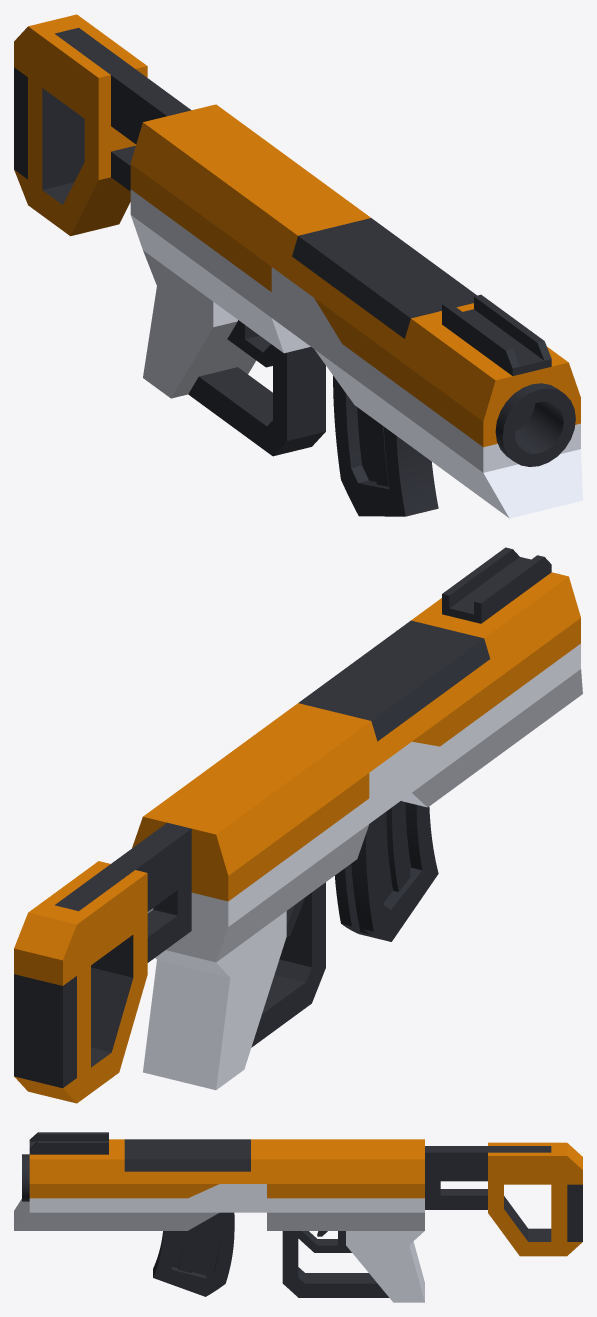
The model's file is rifle.fbx.
3 renders of one model, top to bottom at view 1: azimuth 30°, elevation 25°; view 2: azimuth 150°, elevation 25°; view 3: azimuth 270°, elevation 25°, orthographic. The views are drawn at different scales.
Visible parts, largest first — view 1: mediumBlaster_handleGuard, mediumBlaster_centerDetail, stock_tactical, mediumBlaster_barrelShort, clip_banana, detailRail_front; view 2: mediumBlaster_handleGuard, stock_tactical, mediumBlaster_centerDetail, mediumBlaster_barrelShort, clip_banana, detailRail_front; view 3: mediumBlaster_handleGuard, mediumBlaster_centerDetail, stock_tactical, mediumBlaster_barrelShort, clip_banana, detailRail_front.
Boxes of the visible parts, <box> form: mediumBlaster_handleGuard: <box>130,104,356,456</box>; mediumBlaster_centerDetail: <box>271,207,476,456</box>; stock_tactical: <box>14,14,191,236</box>; mediumBlaster_barrelShort: <box>412,324,582,518</box>; clip_banana: <box>333,375,438,516</box>; detailRail_front: <box>442,294,551,375</box>; mediumBlaster_handleGuard: <box>132,713,369,1090</box>; stock_tactical: <box>14,822,191,1103</box>; mediumBlaster_centerDetail: <box>284,610,510,823</box>; mediumBlaster_barrelShort: <box>425,572,582,755</box>; clip_banana: <box>335,801,438,941</box>; detailRail_front: <box>442,547,551,623</box>; mediumBlaster_handleGuard: <box>267,1139,424,1302</box>; mediumBlaster_centerDetail: <box>108,1139,266,1230</box>; stock_tactical: <box>425,1142,582,1256</box>; mediumBlaster_barrelShort: <box>14,1154,108,1230</box>; clip_banana: <box>153,1212,234,1296</box>; detailRail_front: <box>29,1132,108,1154</box>.
Size of the model in its own units: 4 by 10.8 by 36.
